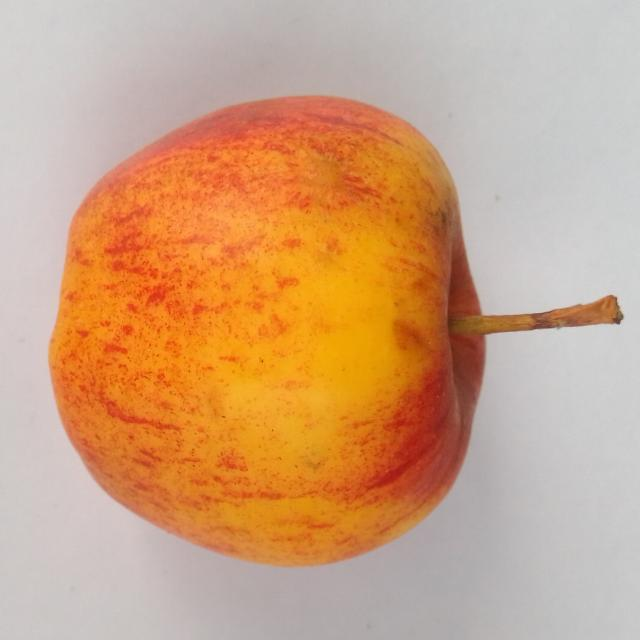Fresh Apple: (52, 95, 493, 568)
